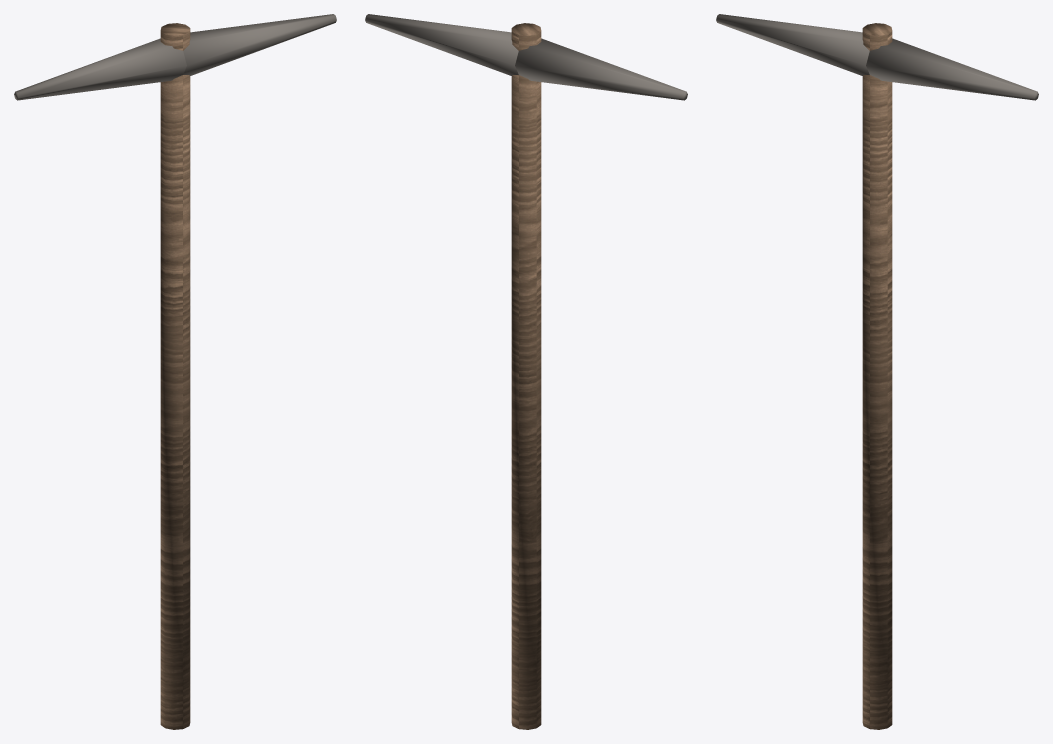
Rendered from pickaxe.glb.
3 views of the same model, side by side, from view 1: azimuth 30°, elevation 25°; view 2: azimuth 150°, elevation 25°; view 3: azimuth 330°, elevation 25° (orthographic).
Parts seen in each view (by area): view 1: pickaxe; view 2: pickaxe; view 3: pickaxe.
Part boxes in pixels (x1,y1,x2,y2): pickaxe: (14,14,336,729); pickaxe: (365,14,687,729); pickaxe: (716,14,1038,729).
Bounding box in the file's own units: 0.24 × 0.5 × 0.03.
2 materials, 1 textured.
